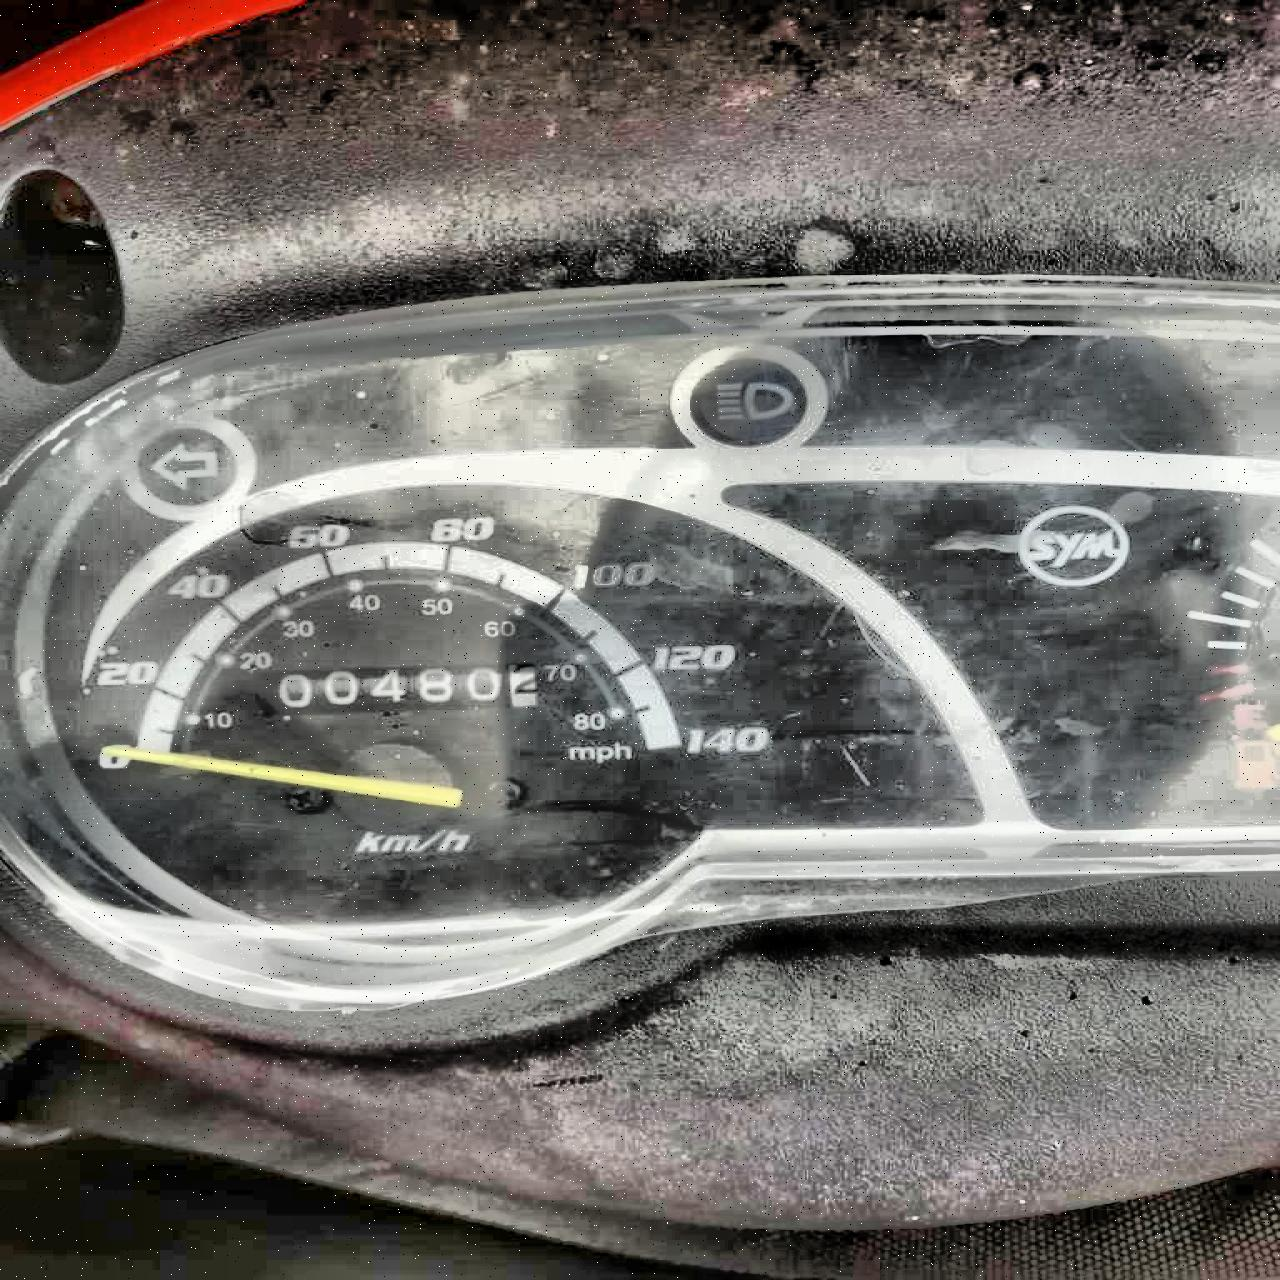0: (277, 672, 312, 708), (465, 663, 501, 700), (324, 668, 356, 703)
2: (512, 661, 540, 693)
4: (370, 667, 406, 701)
8: (416, 667, 451, 701)
odometer: (245, 659, 543, 721)
